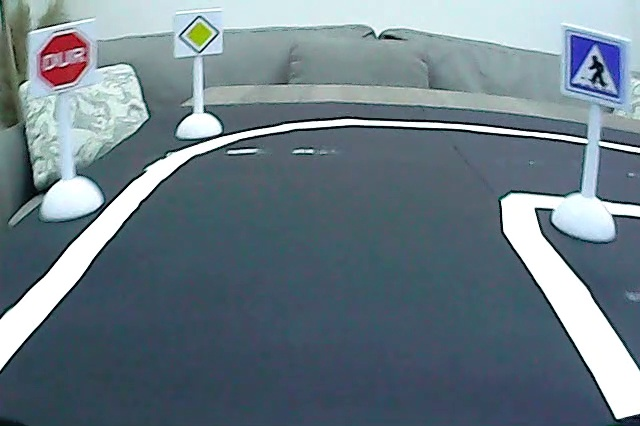pedestrian crossing: (566, 30, 626, 105)
stop sign: (36, 28, 94, 91)
